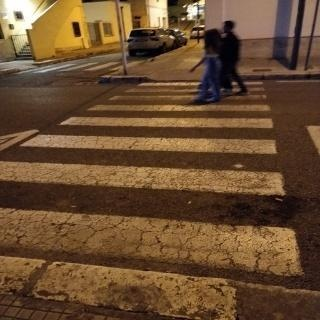road_crosswalk: (4, 103, 310, 319)
